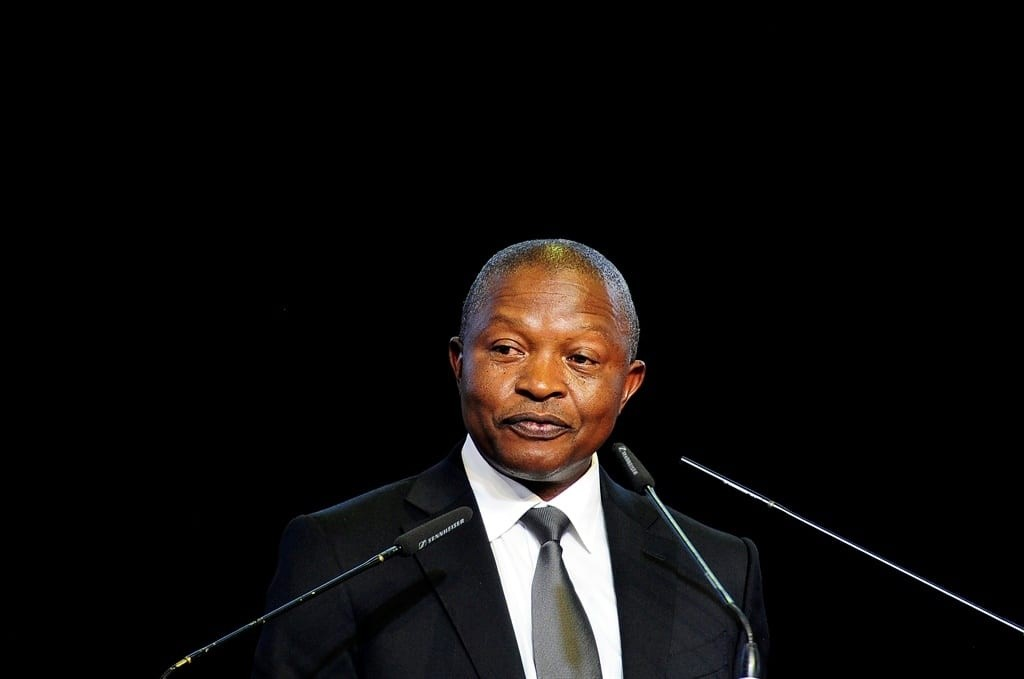face_no_mask: (450, 235, 644, 480)
